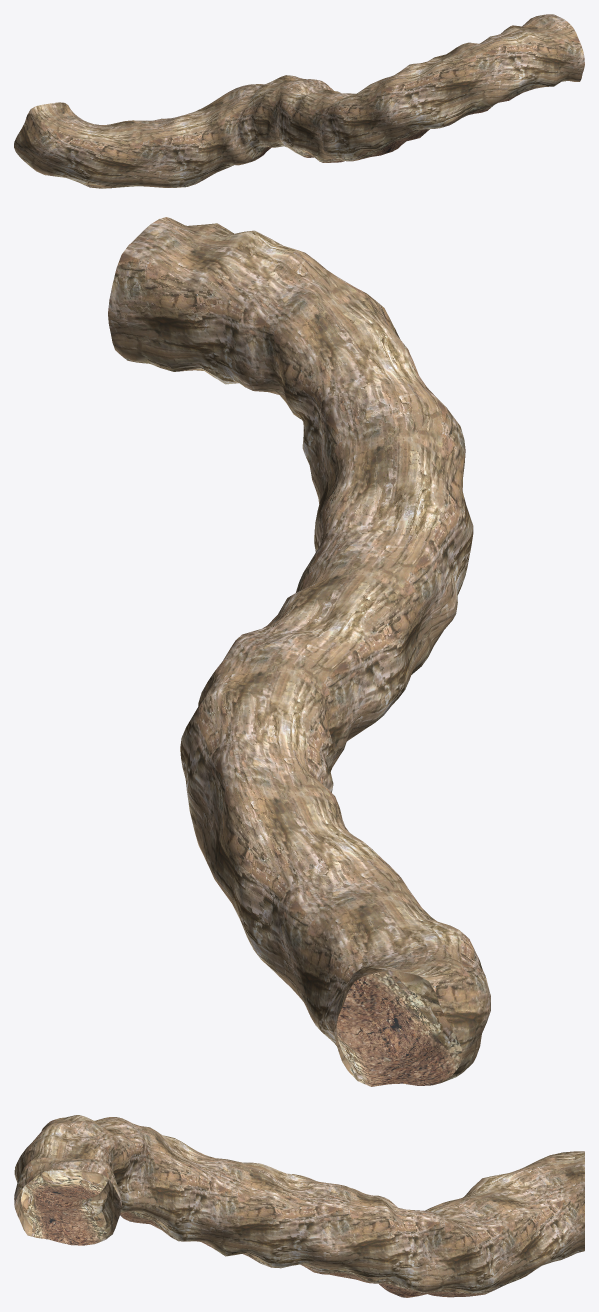
The model's file is thm_tato_cave_s02_r3_mesh_r3.fbx.
3 views of the same model, one above another, from view 1: azimuth 30°, elevation 25°; view 2: azimuth 150°, elevation 25°; view 3: azimuth 270°, elevation 25° (orthographic). The views are drawn at different scales.
Visible parts, largest first — view 1: mesh_node; view 2: mesh_node; view 3: mesh_node.
Part boxes in pixels (x1=…): mesh_node: x1=14, y1=14, x2=584, y2=188; mesh_node: x1=108, y1=217, x2=490, y2=1086; mesh_node: x1=14, y1=1115, x2=584, y2=1297.
Size of the model in its own units: 57.91 by 34.45 by 61.69.
